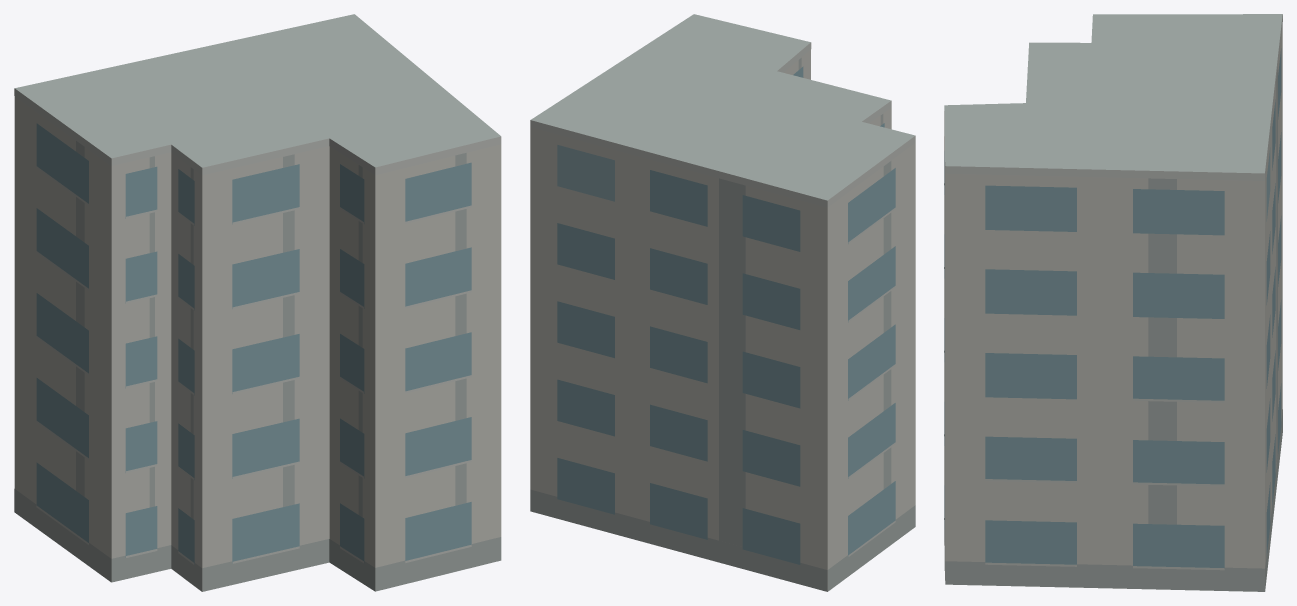
Rendered from survey-upis-32651294.glb.
3 renders of one model, left to right at view 1: azimuth 30°, elevation 25°; view 2: azimuth 150°, elevation 25°; view 3: azimuth 270°, elevation 25°, orthographic. The views are drawn at different scales.
Visible parts, largest first — view 1: survey-upis-32651294.tmp; view 2: survey-upis-32651294.tmp; view 3: survey-upis-32651294.tmp.
Boxes of the visible parts, left/top/right/bottom form: survey-upis-32651294.tmp: left=14, top=14, right=501, bottom=591; survey-upis-32651294.tmp: left=530, top=14, right=915, bottom=591; survey-upis-32651294.tmp: left=944, top=14, right=1282, bottom=591.
Size of the model in its own units: 10.88 by 13.3 by 9.76.
